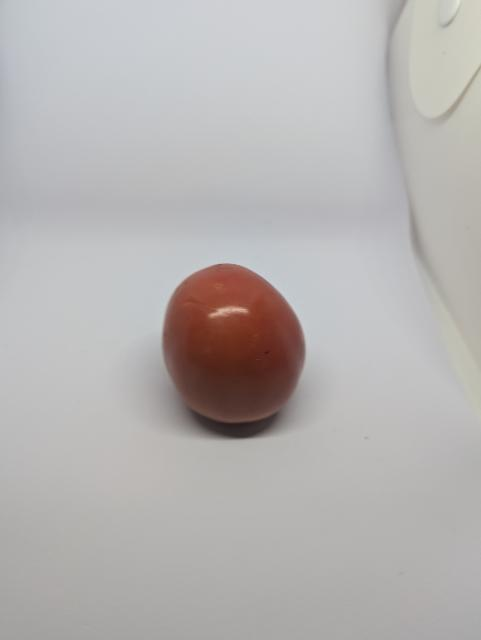red: (136, 254, 330, 427)
